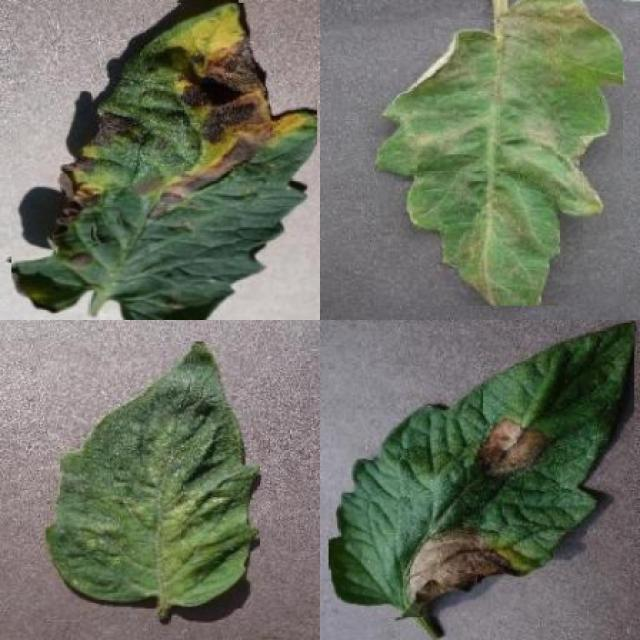Early Blight: (11, 3, 318, 320)
Late Blight: (329, 322, 634, 618), (375, 0, 624, 306)
Spider Mites: (46, 342, 260, 608)
